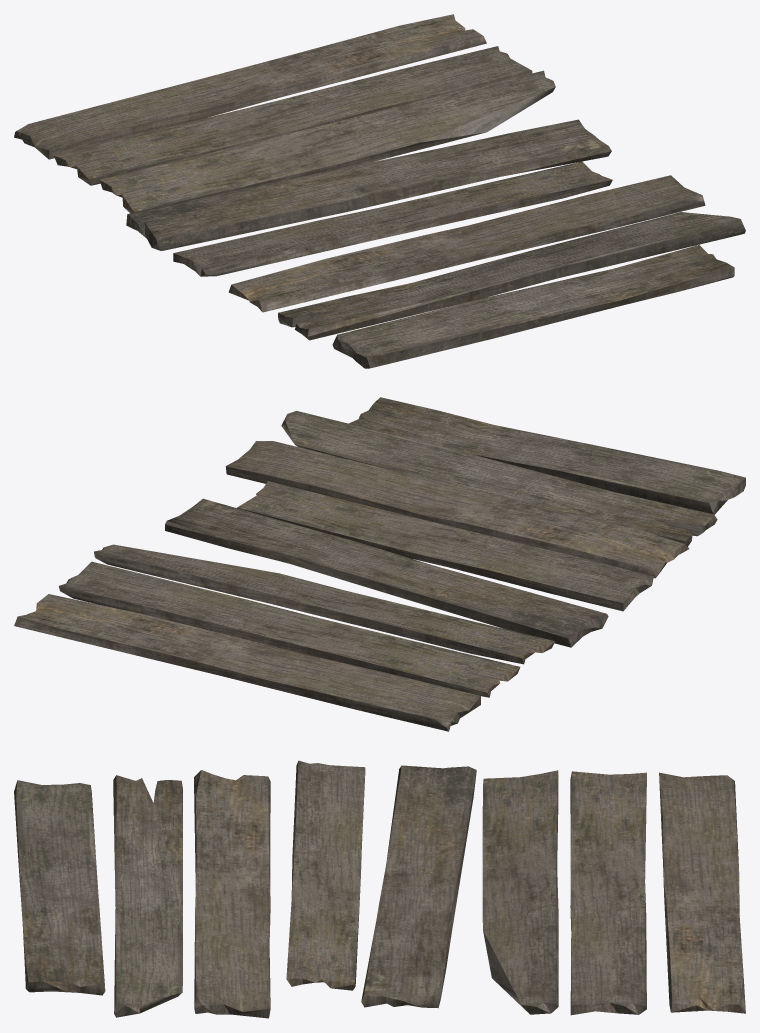
File: SM_wood_planks_1.fbx
3 renders of one model, top to bottom at view 1: azimuth 30°, elevation 25°; view 2: azimuth 150°, elevation 25°; view 3: azimuth 270°, elevation 25°, orthographic. The views are drawn at different scales.
Visible parts, largest first — view 1: SM_wood_planks_1_LOD0; view 2: SM_wood_planks_1_LOD0; view 3: SM_wood_planks_1_LOD0.
Part boxes in pixels (<box>): SM_wood_planks_1_LOD0: <box>14,14,745,368</box>; SM_wood_planks_1_LOD0: <box>14,397,745,731</box>; SM_wood_planks_1_LOD0: <box>14,760,745,1018</box>.
Bounding box in the file's own units: 185 × 235 × 7.79.
